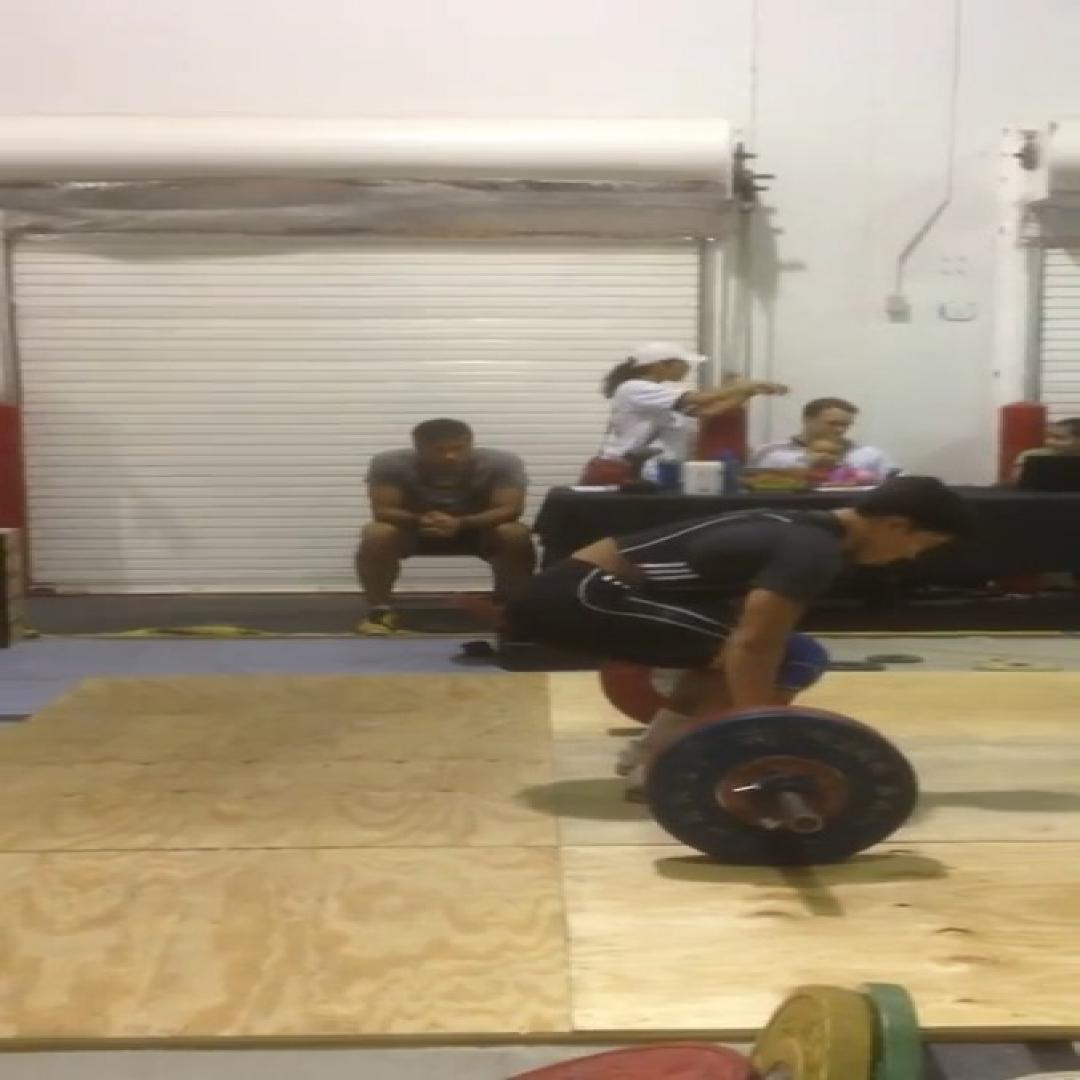Bar: (790, 816, 825, 834)
Barbell: (646, 716, 918, 865)
